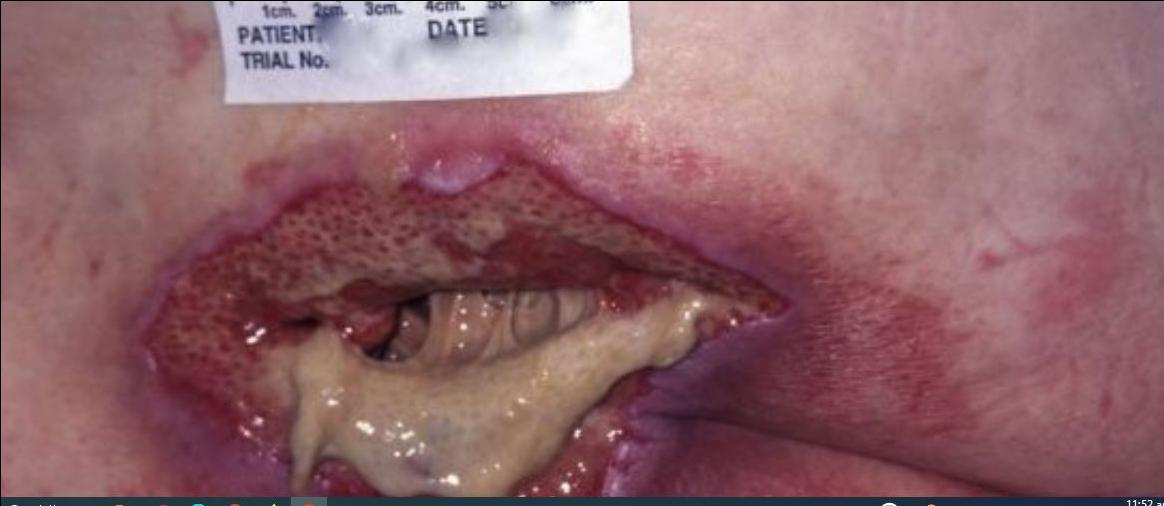Stage4: (129, 104, 868, 504)
